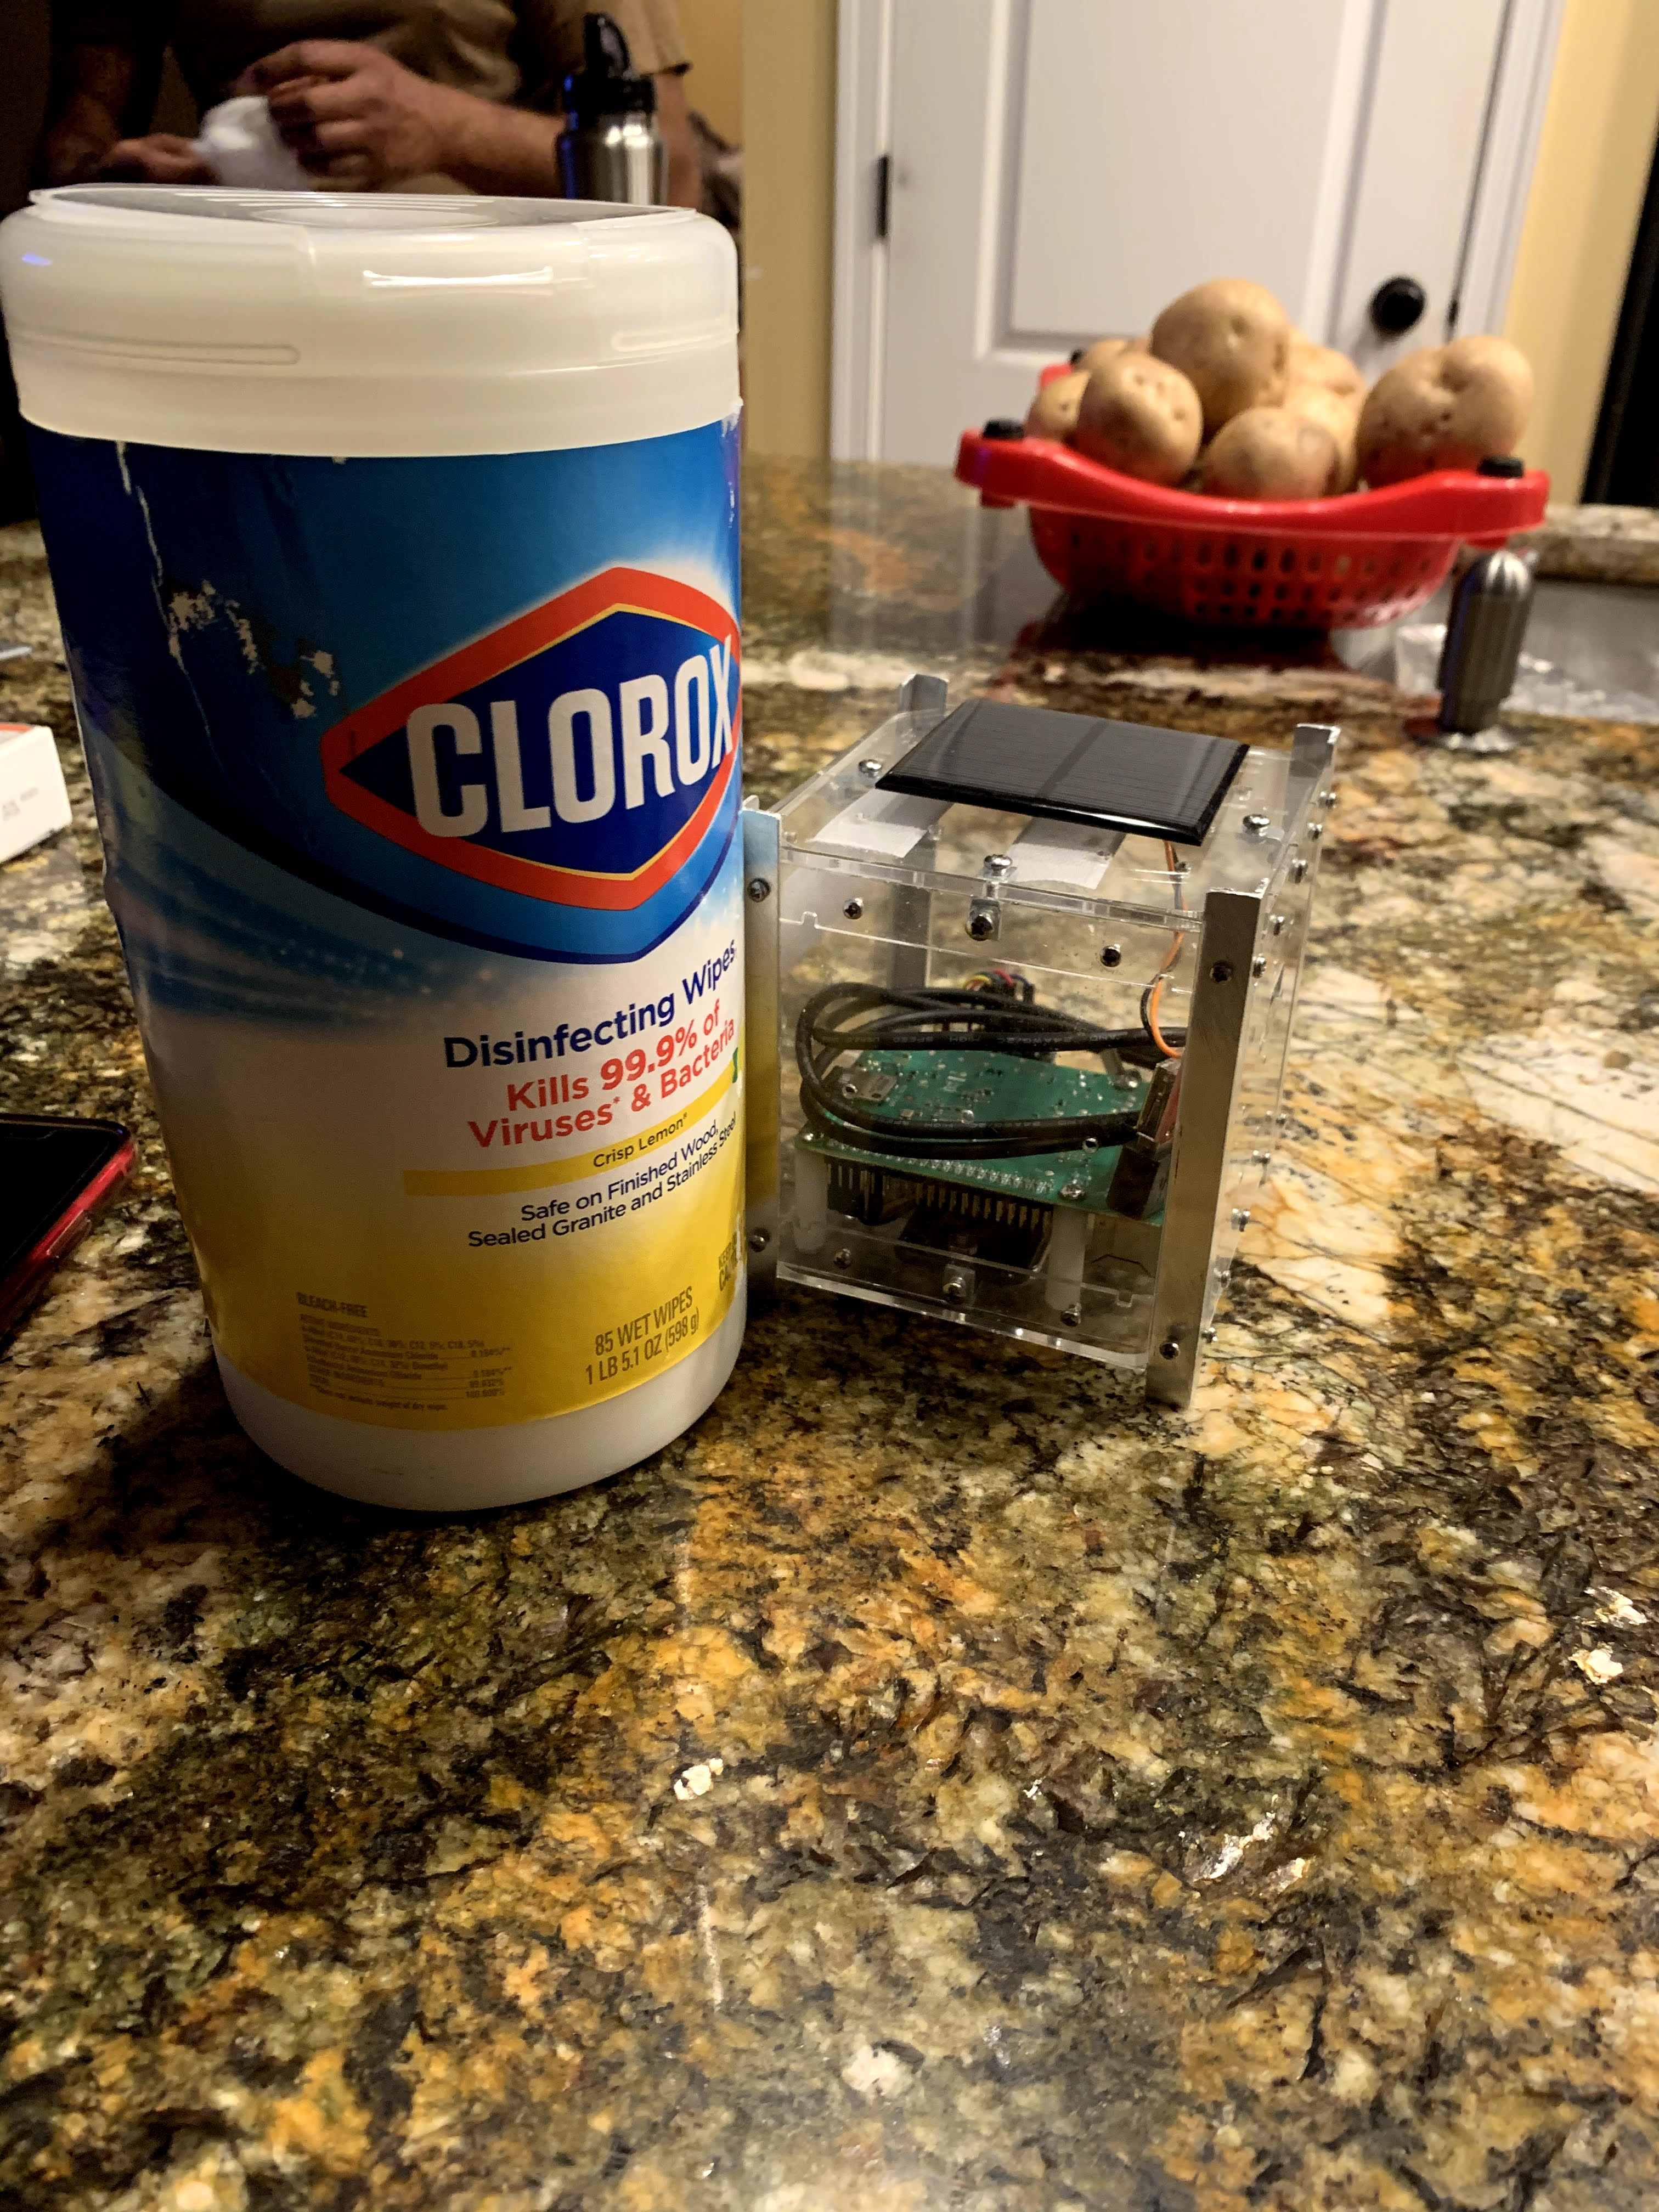Space-debris-cubesat: (739, 657, 1368, 1395)
